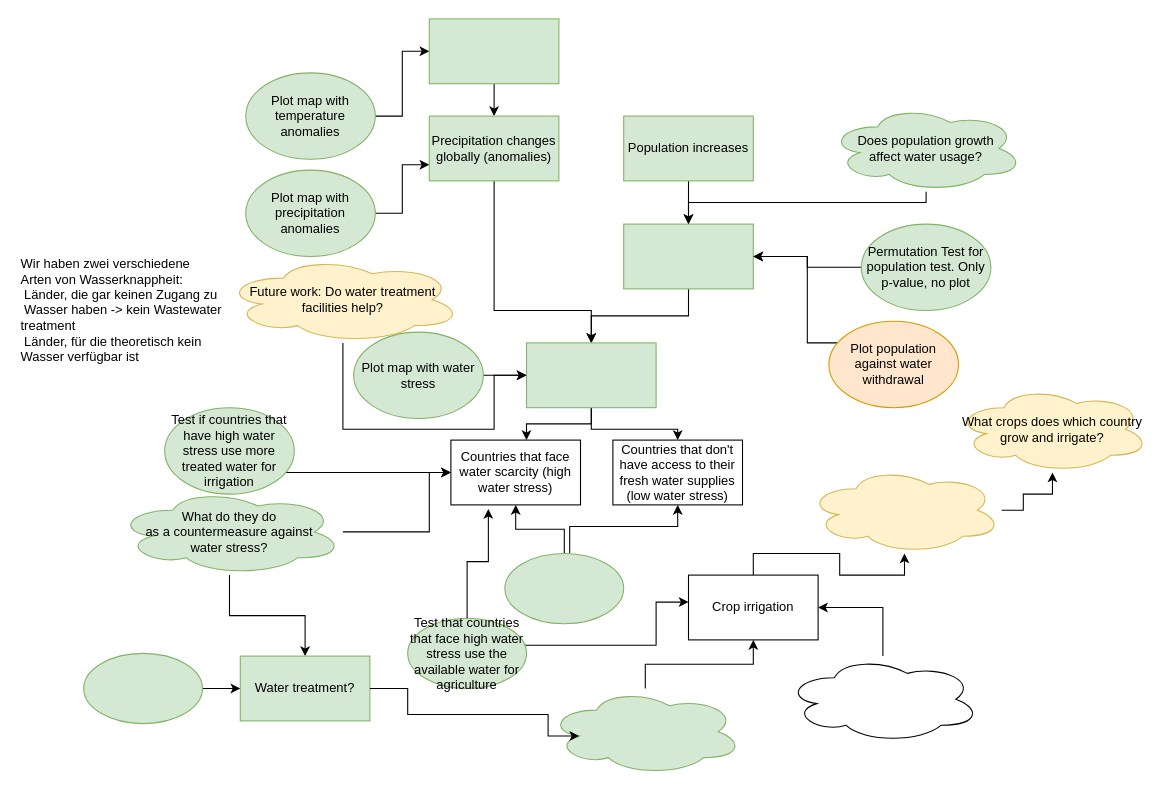
The diagram is 1169 pixels wide and 794 high, and some of its shapes have lost their labels. Each missing label, with the centre of its shape:
"Are other countries/we affected by water stress?" belongs at [882,698].
"Discussion: crop irrigation" belongs at [904,510].
"How much water is treated and how is it used?" belongs at [644,731].
"Overall water usage increases" belongs at [688,256].
"Plot map how much water is treated" belongs at [142,688].
"Plot the water stress against the access to clean drinking water" belongs at [564,588].
"Temperatures changes globally (anomalies)" belongs at [493,51].
"Water Scarcity" belongs at [590,375].
